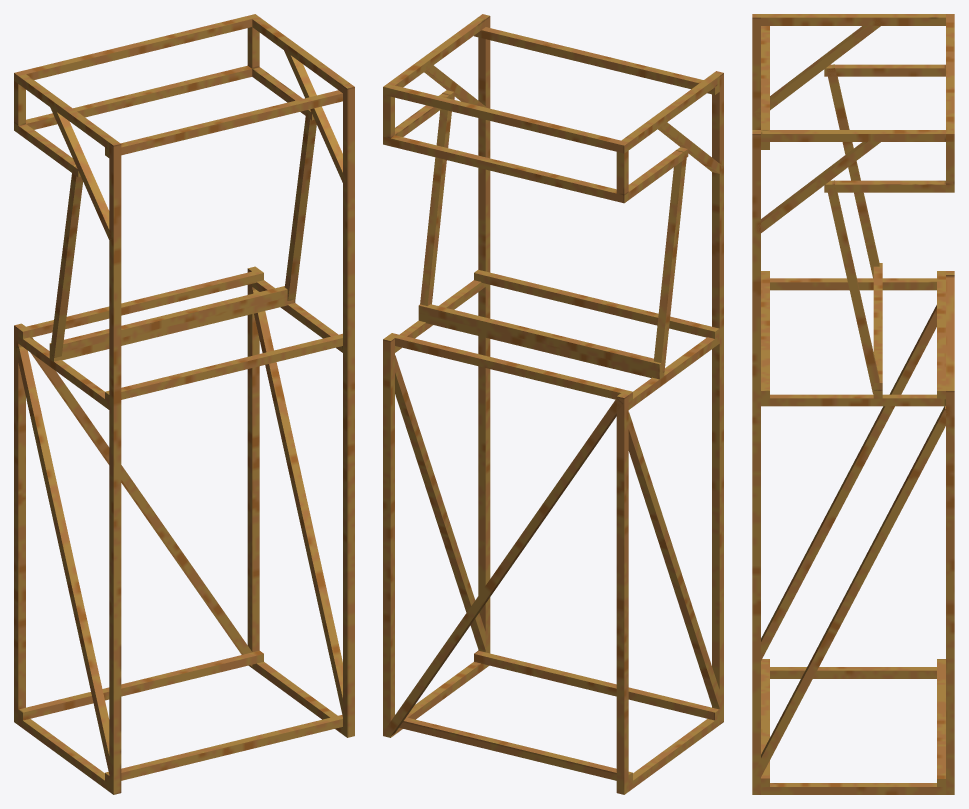
Rendered from arcade_machine_wood_base.glb.
The picture shows the model from 3 angles, left to right: view 1: azimuth 30°, elevation 25°; view 2: azimuth 150°, elevation 25°; view 3: azimuth 270°, elevation 25°; orthographic projection.
Parts seen in each view (by area): view 1: Object_2; view 2: Object_2; view 3: Object_2.
Part boxes in pixels (x1,y1,x2,y2): Object_2: (14,14,354,794); Object_2: (383,14,723,794); Object_2: (752,14,954,794).
Bounding box in the file's own units: 4.38 × 11.25 × 3.13.
1 material, 1 textured.
